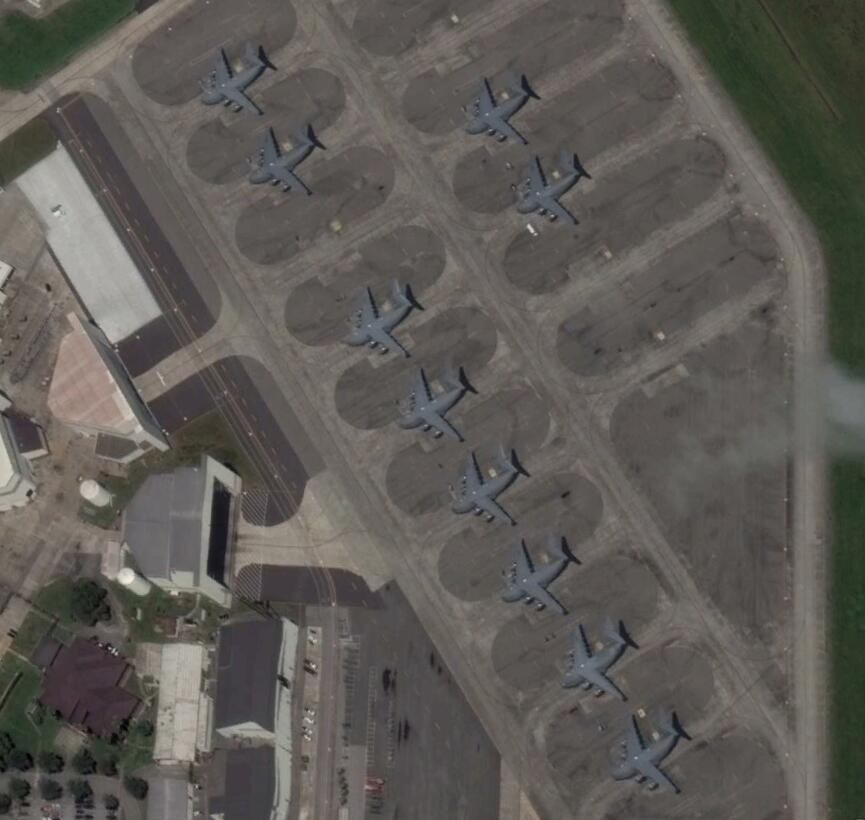A3: (607, 711, 687, 795), (341, 280, 420, 361), (448, 447, 527, 528), (498, 534, 573, 616), (559, 620, 634, 702), (397, 364, 475, 442), (463, 73, 540, 150), (514, 153, 591, 228), (198, 43, 274, 118), (251, 125, 320, 197)
